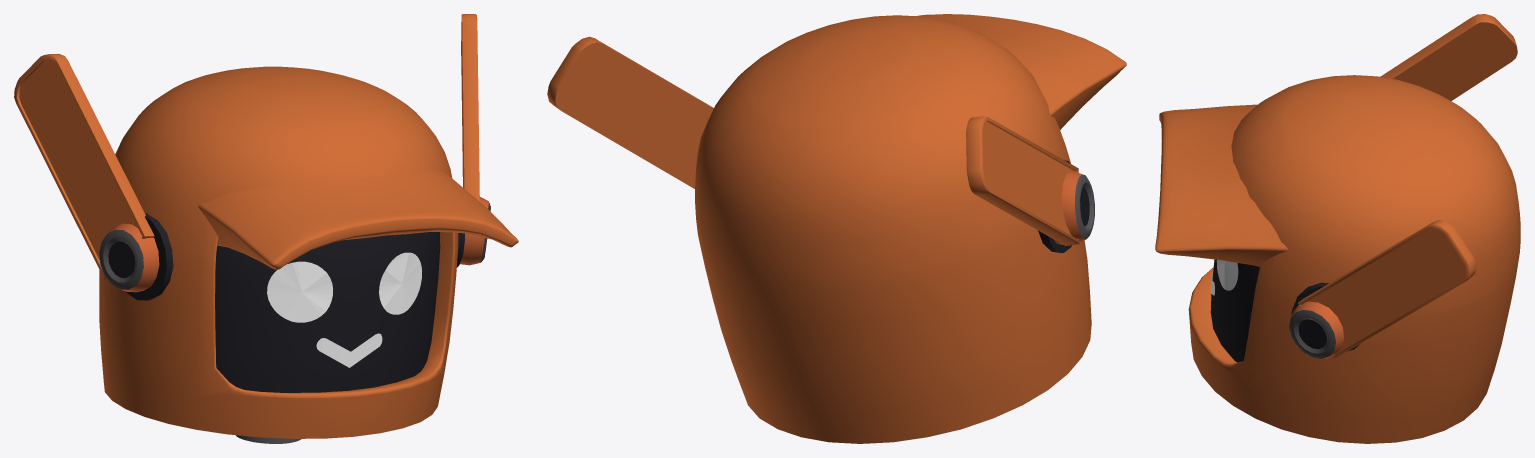
File: Head.glb
3 views of the same model, side by side, from view 1: azimuth 30°, elevation 25°; view 2: azimuth 150°, elevation 25°; view 3: azimuth 270°, elevation 25° (orthographic). The views are drawn at different scales.
Visible parts, largest first — view 1: Head; view 2: Head; view 3: Head.
Part boxes in pixels (x1,y1,x2,y2): Head: (14,14,518,443); Head: (547,14,1126,443); Head: (1155,14,1520,443).
Size of the model in its own units: 2.97 by 2.32 by 2.38.
